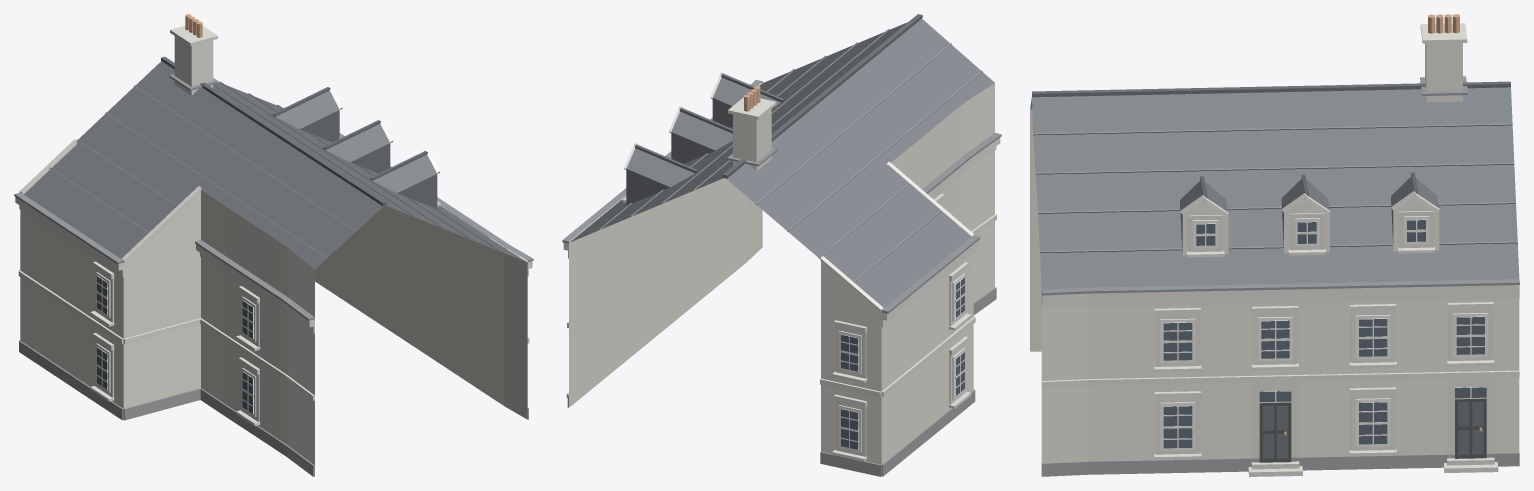
3 views of the same model, side by side, from view 1: azimuth 30°, elevation 25°; view 2: azimuth 150°, elevation 25°; view 3: azimuth 270°, elevation 25° (orthographic). The views are drawn at different scales.
Visible parts, largest first — view 1: harl_cream, slate, string, slate_dk, plinth, slate_lt, lead, frame, chim_render; view 2: harl_cream, slate, string, slate_dk, slate_lt, lead, plinth, frame, chim_render, window_glass_001, window_glass_002; view 3: slate, harl_cream, string, frame, plinth, slate_lt, lead, slate_dk, door_dark_p, chim_render, door_dark, window_glass_003 (+6 smaller).
Boxes of the visible parts, x1,y1,x2,y2 form: harl_cream: (20, 190, 527, 465); slate: (24, 61, 526, 268); string: (15, 25, 532, 425); slate_dk: (161, 56, 437, 208); plinth: (19, 340, 528, 476); slate_lt: (49, 81, 499, 258); lead: (14, 74, 533, 320); frame: (96, 87, 440, 417); chim_render: (174, 36, 213, 95); harl_cream: (569, 83, 994, 464); slate: (570, 19, 994, 307); string: (563, 83, 1000, 461); slate_dk: (626, 14, 922, 205); slate_lt: (598, 29, 982, 282); lead: (562, 80, 1001, 313); plinth: (567, 287, 996, 476); frame: (624, 72, 965, 452); chim_render: (733, 109, 771, 171); window_glass_001: (841, 409, 858, 449); window_glass_002: (841, 334, 858, 371); slate: (1030, 87, 1519, 289); harl_cream: (1030, 109, 1519, 462); string: (1041, 23, 1519, 476); frame: (1160, 191, 1488, 450); plinth: (1041, 452, 1519, 476); slate_lt: (1030, 101, 1517, 252); lead: (1041, 76, 1519, 295); slate_dk: (1032, 81, 1510, 253); door_dark_p: (1263, 402, 1483, 458); chim_render: (1425, 43, 1462, 102); door_dark: (1259, 398, 1486, 462); window_glass_003: (1163, 406, 1192, 448).
Bounding box in the file's own units: 13.77 × 12.78 × 15.44.
